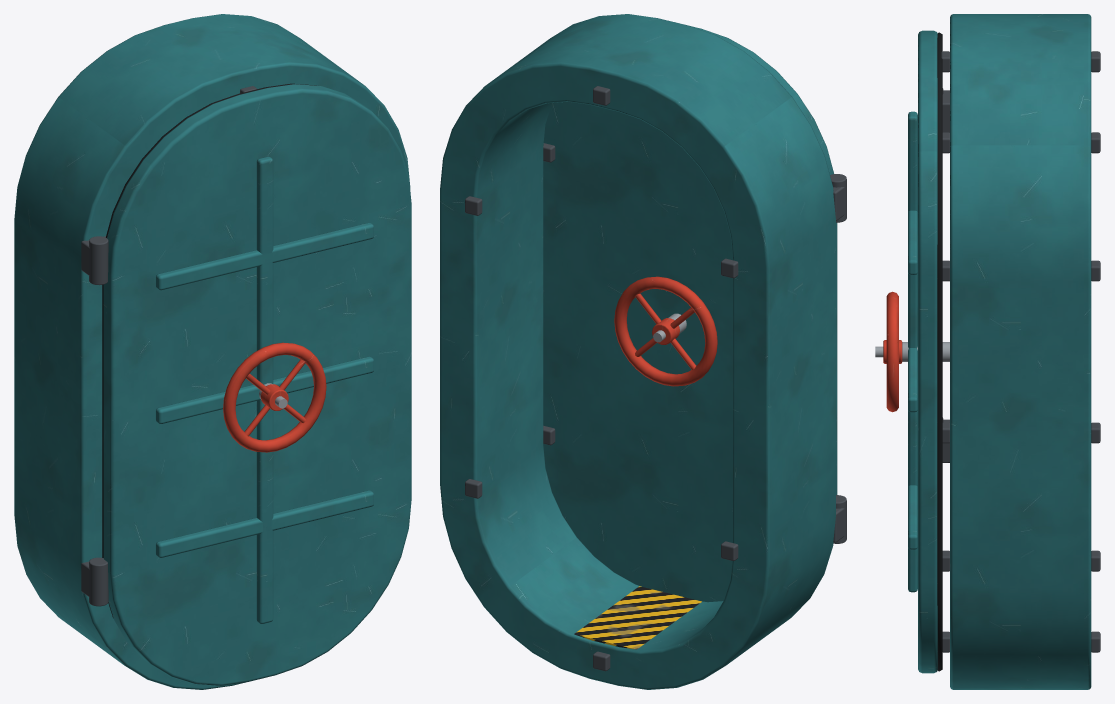
The model's file is WatertightDoor.glb.
3 views of the same model, side by side, from view 1: azimuth 30°, elevation 25°; view 2: azimuth 150°, elevation 25°; view 3: azimuth 270°, elevation 25° (orthographic). The views are drawn at different scales.
Visible parts, largest first — view 1: WatertightDoor_Leaf, WatertightDoor_Body, WatertightDoor_WheelFront; view 2: WatertightDoor_Body, WatertightDoor_Leaf, WatertightDoor_WheelBack; view 3: WatertightDoor_Body, WatertightDoor_Leaf, WatertightDoor_WheelFront.
Boxes of the visible parts, bbox=[...] form: WatertightDoor_Leaf: bbox=[102, 83, 411, 685]; WatertightDoor_Body: bbox=[14, 14, 410, 689]; WatertightDoor_WheelFront: bbox=[223, 342, 326, 452]; WatertightDoor_Body: bbox=[440, 14, 846, 689]; WatertightDoor_Leaf: bbox=[543, 25, 837, 602]; WatertightDoor_WheelBack: bbox=[614, 276, 717, 386]; WatertightDoor_Body: bbox=[941, 14, 1100, 689]; WatertightDoor_Leaf: bbox=[902, 30, 949, 673]; WatertightDoor_WheelFront: bbox=[875, 291, 902, 412].
Bounding box in the file's own units: 1.16 × 2.06 × 0.6682.
6 materials, 3 textured.
